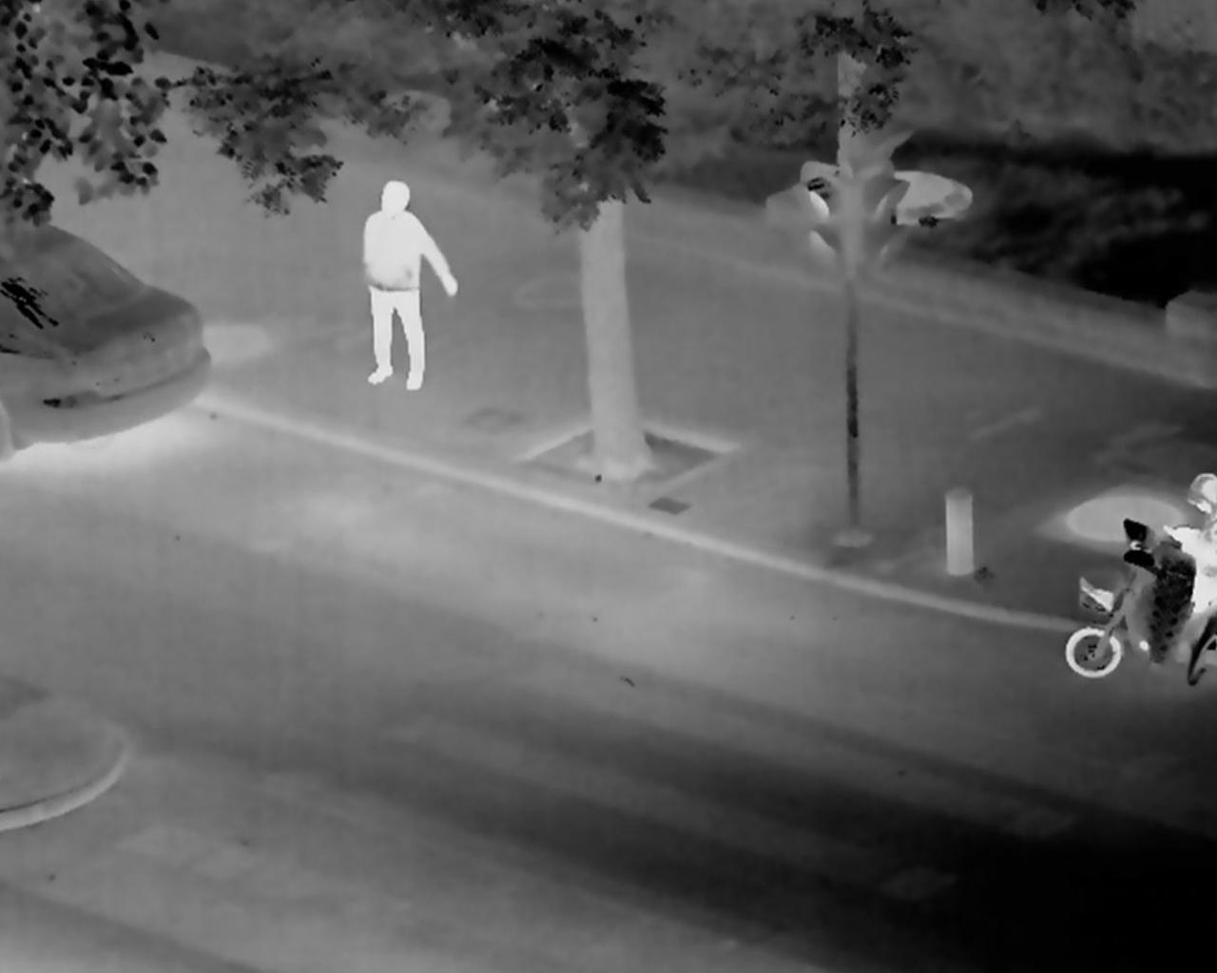person: (344, 169, 485, 410), (1170, 462, 1217, 666)
